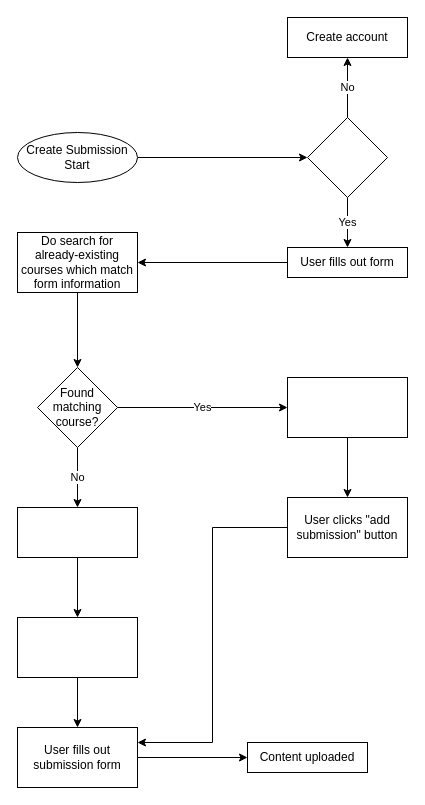
This 425x805 diagram has some shape labels left out. Each missing label, with the centre of its shape:
Add the course to database: the point at 77,532
Logged in?: the point at 347,157
Redirect user to the course's URL: the point at 347,407
Redirect user to the new submission form for the newly created course: the point at 77,647
